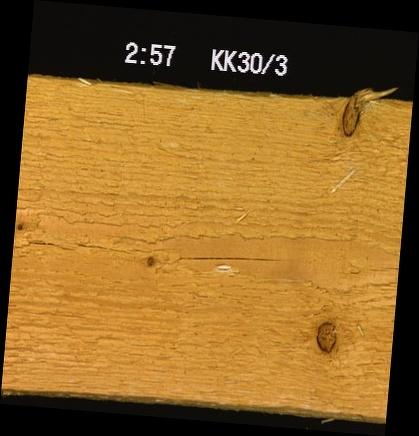dry_knot: (312, 319, 338, 354)
edge_knot: (338, 95, 363, 139)
small_knot: (142, 251, 157, 270), (14, 217, 26, 233)
split: (13, 234, 146, 259), (164, 244, 288, 270)
wave: (49, 382, 386, 412)
